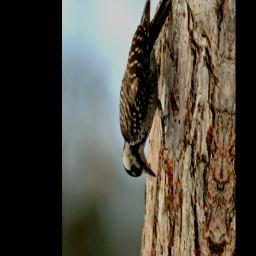Woodpecker: (113, 0, 181, 190)
